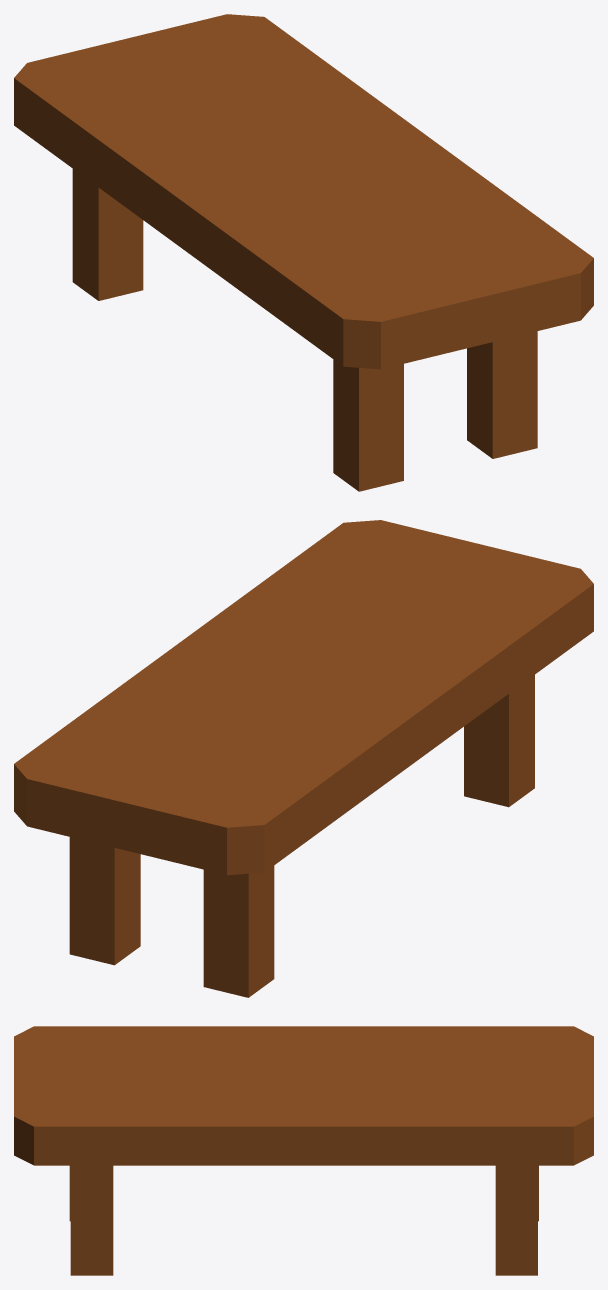
Rendered from table empty.fbx.
3 views of the same model, one above another, from view 1: azimuth 30°, elevation 25°; view 2: azimuth 150°, elevation 25°; view 3: azimuth 270°, elevation 25° (orthographic). The views are drawn at different scales.
Parts seen in each view (by area): view 1: table; view 2: table; view 3: table.
Part boxes in pixels (bbox=[...]): table: bbox=[14, 14, 593, 491]; table: bbox=[14, 520, 593, 997]; table: bbox=[14, 1026, 593, 1275].
Bounding box in the file's own units: 240 × 182 × 587.
